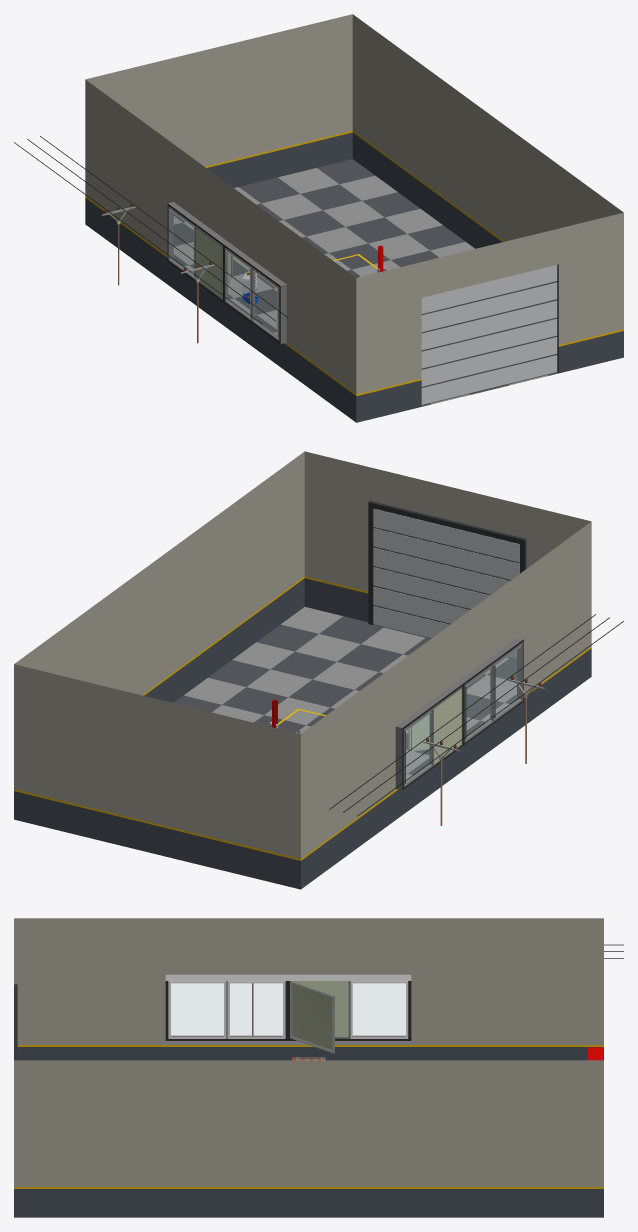
File: garage.obj
The picture shows the model from 3 angles, top to bottom: view 1: azimuth 30°, elevation 25°; view 2: azimuth 150°, elevation 25°; view 3: azimuth 270°, elevation 25°; orthographic projection. The views are drawn at different scales.
Visible parts, largest first — view 1: hall, windows, sloupy; view 2: hall, windows, sloupy; view 3: hall, windows.
Boxes of the visible parts, box(x1,y1,x2,y2) form: hall: box(85, 14, 623, 422); windows: box(167, 202, 286, 344); sloupy: box(14, 136, 288, 343); hall: box(14, 451, 591, 889); windows: box(395, 638, 523, 790); sloupy: box(329, 614, 623, 825); hall: box(14, 918, 603, 1217); windows: box(165, 974, 411, 1053).
Bounding box in the file's own units: 34.07 × 14.15 × 49.64.
